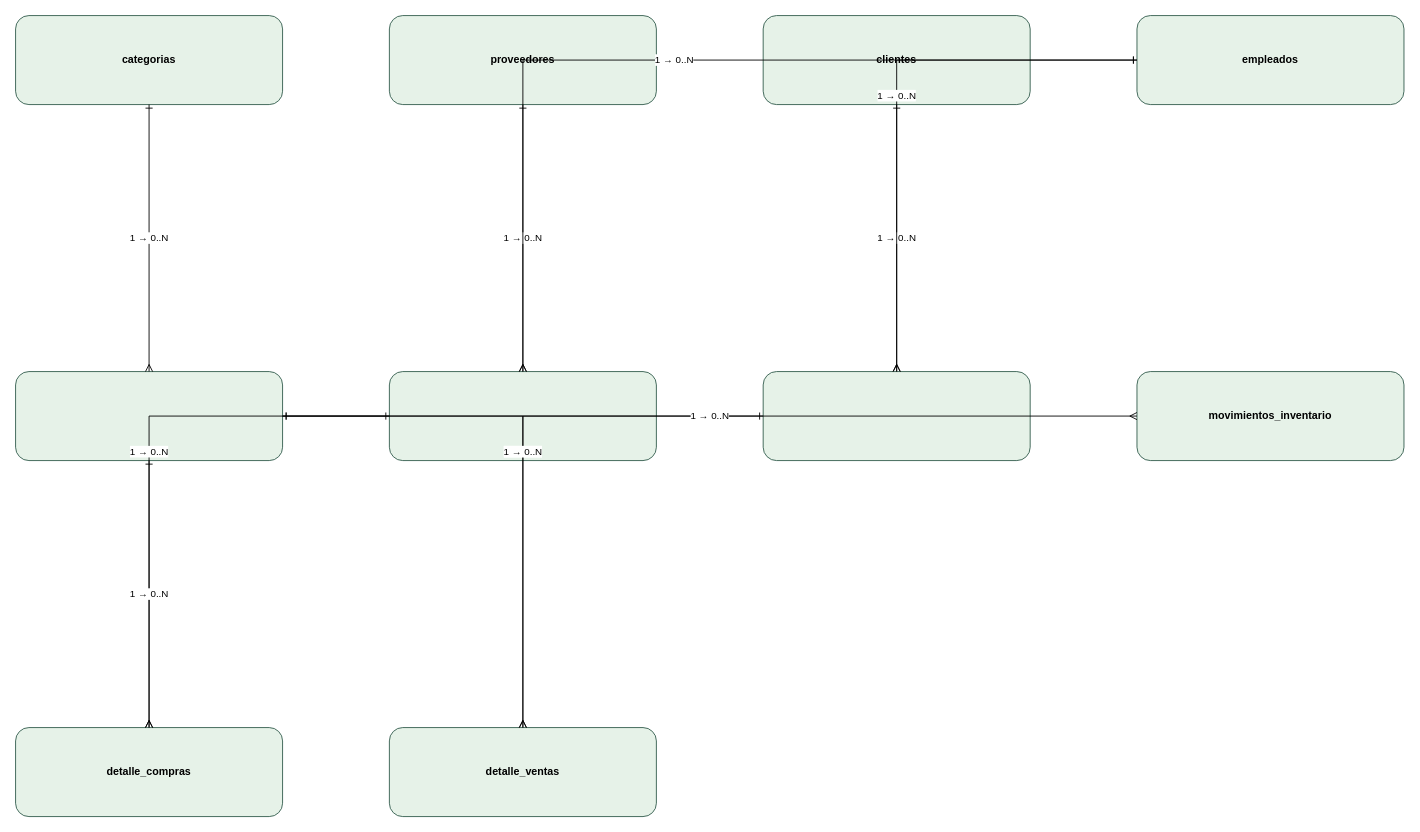
Some shapes in this 1420 by 832 pixel diagram are drawn without their labels. Here are the shapes that lost their labels. From the top down, the centre of each, then its label:
[149,416]: productos
[522,416]: compras
[896,416]: ventas
